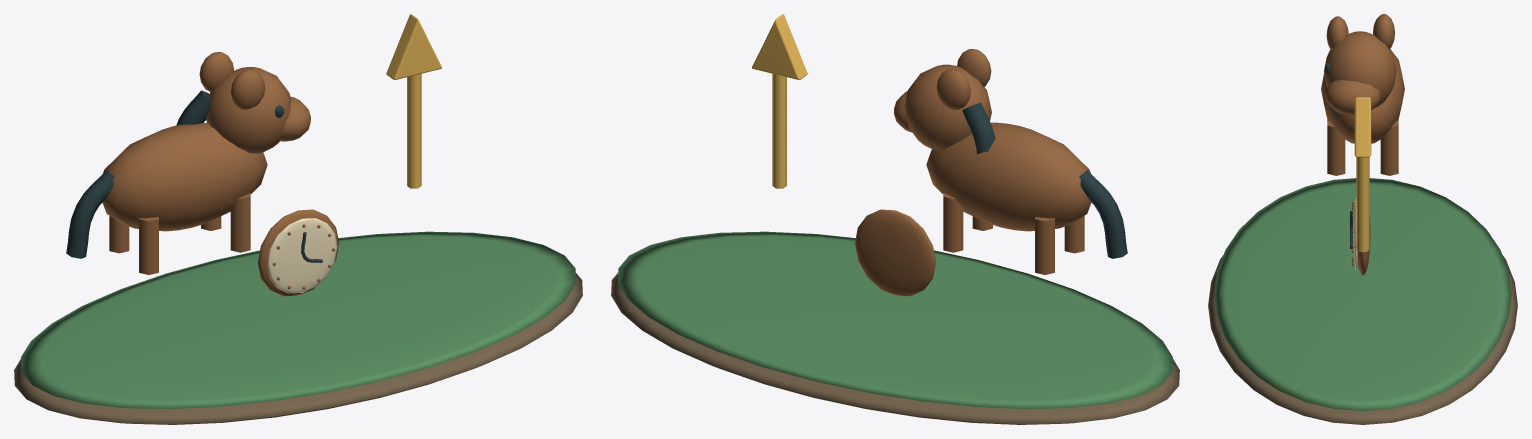
File: complete-first-immediate-horse-up.glb
3 renders of one model, left to right at view 1: azimuth 30°, elevation 25°; view 2: azimuth 150°, elevation 25°; view 3: azimuth 270°, elevation 25°, orthographic. The views are drawn at different scales.
Visible parts, largest first — view 1: complete-first-immediate-horse-up_surface_01, complete-first-immediate-horse-up_surface_02, complete-first-immediate-horse-up_surface_00, complete-first-immediate-horse-up_surface_05, complete-first-immediate-horse-up_surface_04, complete-first-immediate-horse-up_surface_03; view 2: complete-first-immediate-horse-up_surface_01, complete-first-immediate-horse-up_surface_02, complete-first-immediate-horse-up_surface_00, complete-first-immediate-horse-up_surface_04, complete-first-immediate-horse-up_surface_03; view 3: complete-first-immediate-horse-up_surface_01, complete-first-immediate-horse-up_surface_02, complete-first-immediate-horse-up_surface_00, complete-first-immediate-horse-up_surface_04.
Boxes of the visible parts, left/top/right/bottom form: complete-first-immediate-horse-up_surface_01: left=21, top=231, right=575, bottom=408; complete-first-immediate-horse-up_surface_02: left=102, top=52, right=338, bottom=296; complete-first-immediate-horse-up_surface_00: left=14, top=273, right=582, bottom=424; complete-first-immediate-horse-up_surface_05: left=267, top=218, right=337, bottom=293; complete-first-immediate-horse-up_surface_04: left=386, top=14, right=441, bottom=188; complete-first-immediate-horse-up_surface_03: left=66, top=90, right=322, bottom=262; complete-first-immediate-horse-up_surface_01: left=618, top=231, right=1172, bottom=408; complete-first-immediate-horse-up_surface_02: left=855, top=49, right=1091, bottom=296; complete-first-immediate-horse-up_surface_00: left=611, top=273, right=1179, bottom=424; complete-first-immediate-horse-up_surface_04: left=752, top=14, right=807, bottom=188; complete-first-immediate-horse-up_surface_03: left=962, top=102, right=1127, bottom=258; complete-first-immediate-horse-up_surface_01: left=1214, top=178, right=1511, bottom=410; complete-first-immediate-horse-up_surface_02: left=1321, top=14, right=1404, bottom=275; complete-first-immediate-horse-up_surface_00: left=1208, top=255, right=1517, bottom=424; complete-first-immediate-horse-up_surface_04: left=1354, top=97, right=1371, bottom=251.
Size of the model in its own units: 4.56 by 2.44 by 2.5.
